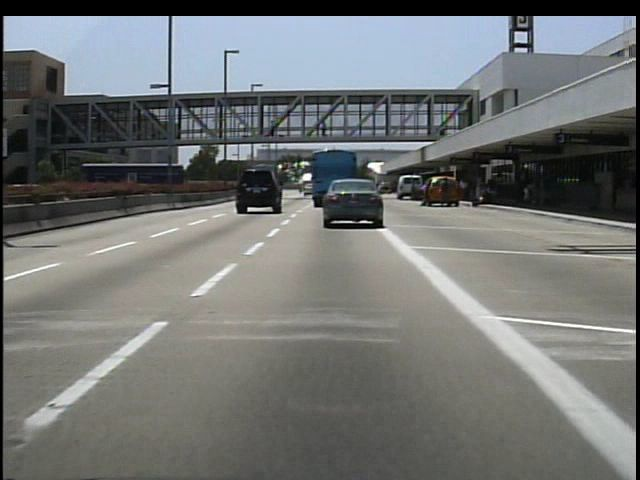person: (439, 176, 456, 211), (267, 115, 282, 138), (318, 117, 331, 143)
